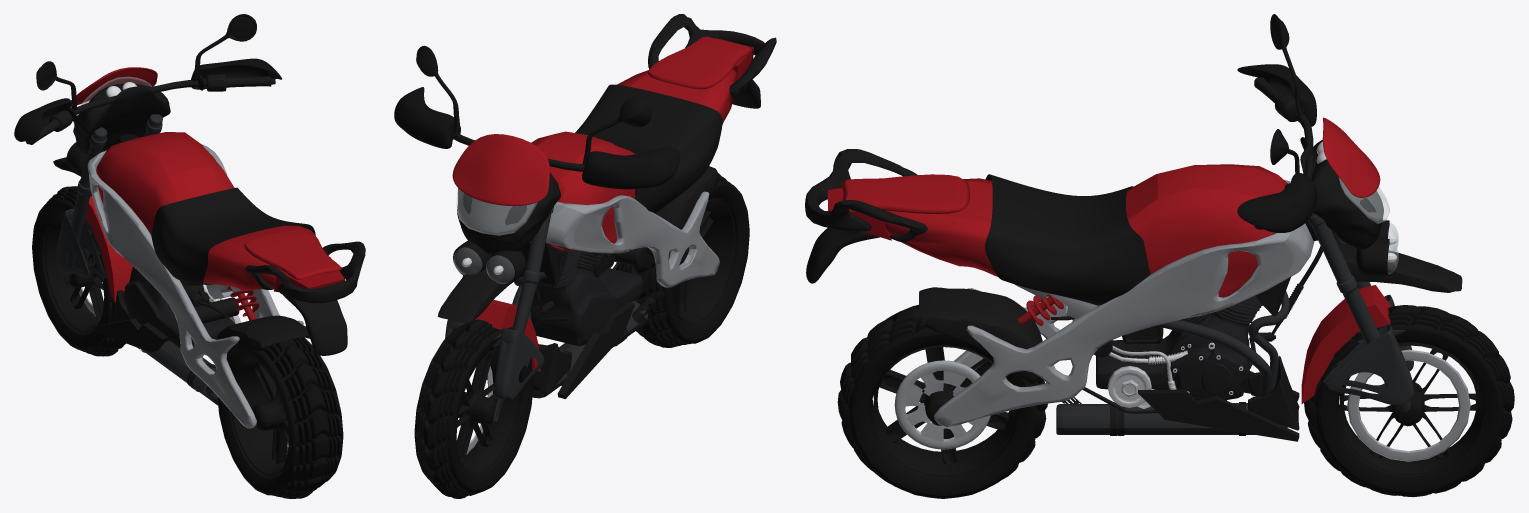
File: buell.glb
The picture shows the model from 3 angles, left to right: view 1: azimuth 30°, elevation 25°; view 2: azimuth 150°, elevation 25°; view 3: azimuth 270°, elevation 25°; orthographic projection. The views are drawn at different scales.
Visible parts, largest first — view 1: polySurface540, polySurface552, polySurface562, polySurface559, polySurface553, polySurface556, polySurface566, polySurface542, polySurface569, polySurface565, polySurface555, polySurface563 (+22 smaller); view 2: polySurface553, polySurface562, polySurface559, polySurface569, polySurface540, polySurface552, polySurface548, polySurface556, polySurface566, polySurface618, polySurface542, polySurface565 (+22 smaller); view 3: polySurface562, polySurface540, polySurface559, polySurface553, polySurface552, polySurface569, polySurface555, polySurface566, polySurface556, polySurface616, polySurface565, polySurface603 (+21 smaller).
Boxes of the visible parts, box(x1,y1,x2,y2) form: polySurface540: box(96, 132, 321, 290); polySurface552: box(217, 337, 343, 498); polySurface562: box(87, 144, 303, 428); polySurface559: box(151, 187, 315, 285); polySurface553: box(32, 186, 125, 356); polySurface556: box(73, 83, 170, 154); polySurface566: box(244, 230, 341, 279); polySurface542: box(231, 359, 289, 475); polySurface569: box(124, 267, 234, 347); polySurface565: box(245, 241, 365, 303); polySurface555: box(216, 315, 309, 357); polySurface563: box(283, 295, 347, 355); polySurface553: box(414, 319, 533, 498); polySurface562: box(545, 191, 719, 287); polySurface559: box(575, 84, 722, 213); polySurface569: box(530, 249, 643, 346); polySurface540: box(530, 69, 736, 251); polySurface552: box(616, 173, 749, 347); polySurface548: box(452, 134, 549, 206); polySurface556: box(457, 172, 560, 254); polySurface566: box(647, 36, 751, 89); polySurface618: box(582, 147, 679, 189); polySurface542: box(673, 199, 735, 322); polySurface565: box(648, 14, 776, 98); polySurface562: box(934, 179, 1314, 426); polySurface540: box(885, 164, 1287, 297); polySurface559: box(985, 174, 1150, 305); polySurface553: box(1304, 305, 1514, 497); polySurface552: box(837, 304, 1047, 498); polySurface569: box(1096, 295, 1262, 400); polySurface555: box(919, 287, 1042, 383); polySurface566: box(841, 174, 969, 213); polySurface556: box(1300, 137, 1383, 249); polySurface616: box(894, 360, 990, 449); polySurface565: box(805, 149, 927, 242); polySurface603: box(1327, 324, 1413, 405).
Size of the model in its own units: 0.0432 by 0.0564 by 0.0855.
